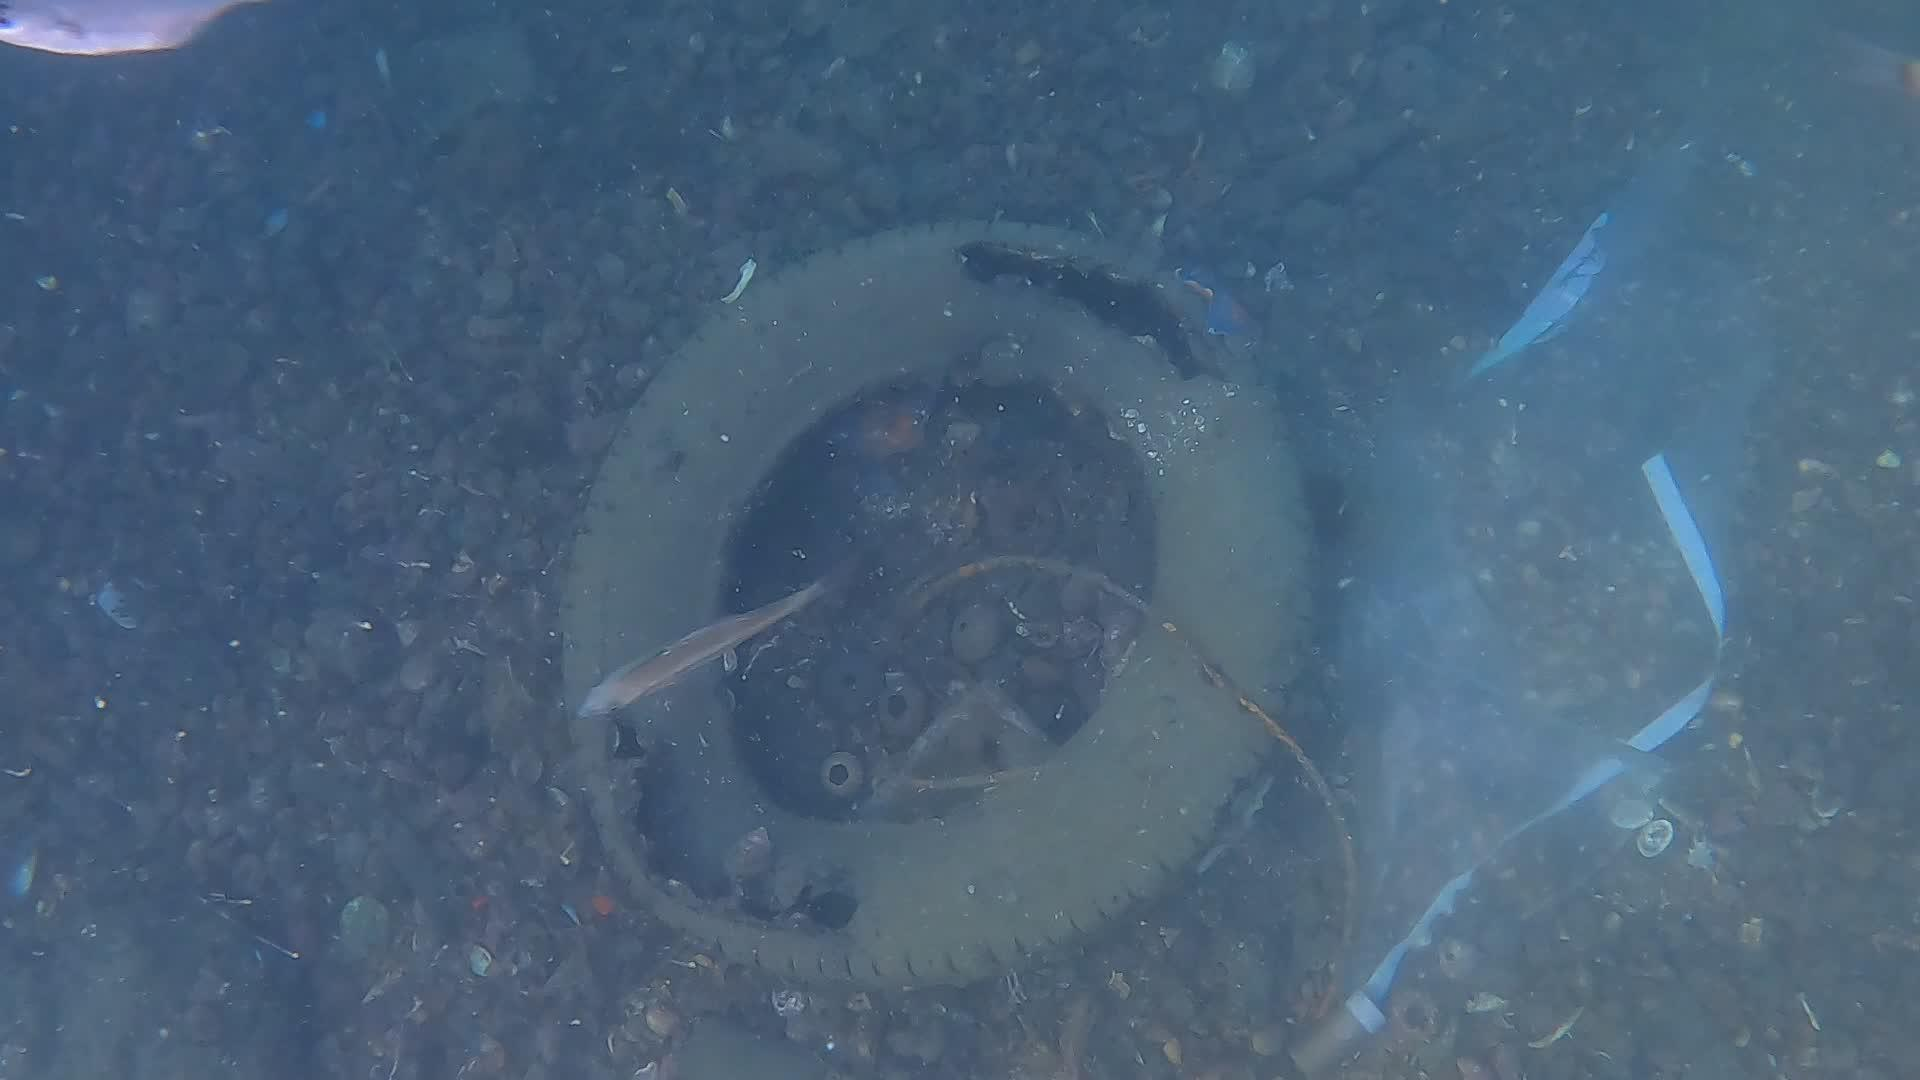tire: (554, 222, 1320, 1000)
